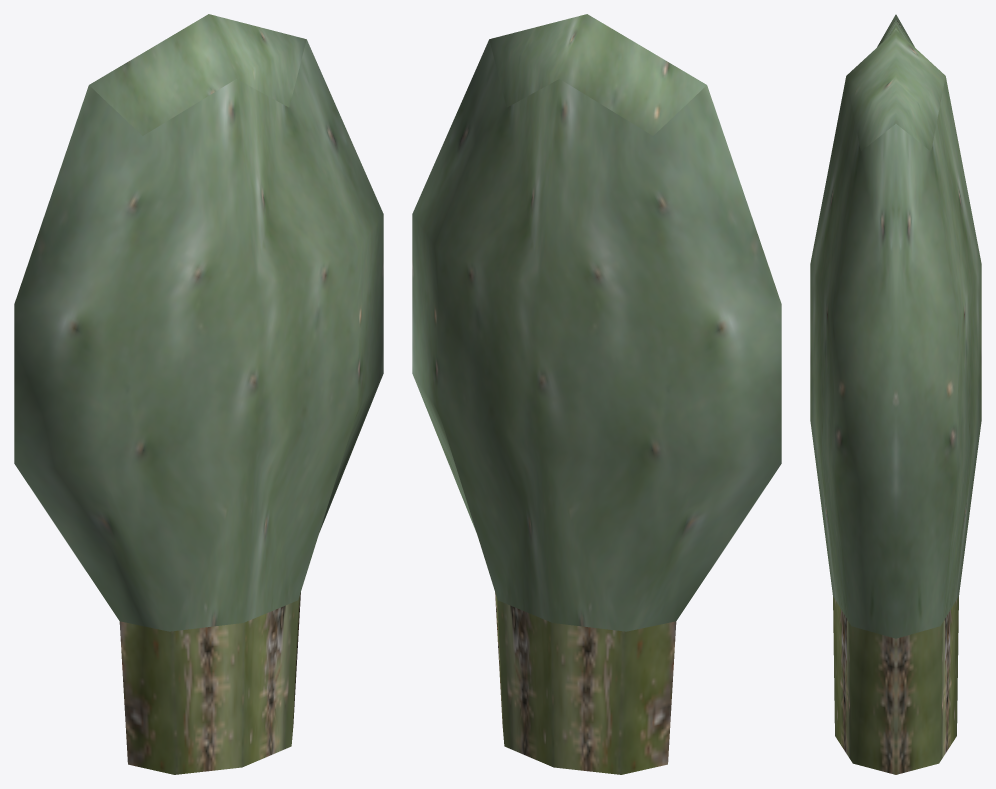
The model's file is nopal_small_c.dae.
3 renders of one model, left to right at view 1: azimuth 30°, elevation 25°; view 2: azimuth 150°, elevation 25°; view 3: azimuth 270°, elevation 25°, orthographic. The views are drawn at different scales.
Visible parts, largest first — view 1: Circle.003; view 2: Circle.003; view 3: Circle.003.
Part boxes in pixels (x1,y1,x2,y2): Circle.003: (14, 14, 383, 774); Circle.003: (412, 14, 781, 774); Circle.003: (810, 14, 981, 774).
Bounding box in the file's own units: 1.8 × 0.7526 × 3.41.
